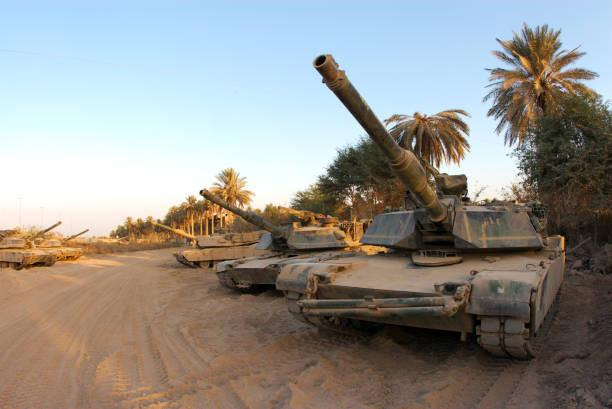tank: (279, 55, 570, 360), (199, 190, 383, 294), (150, 220, 265, 269), (1, 221, 62, 271), (37, 229, 89, 261)
